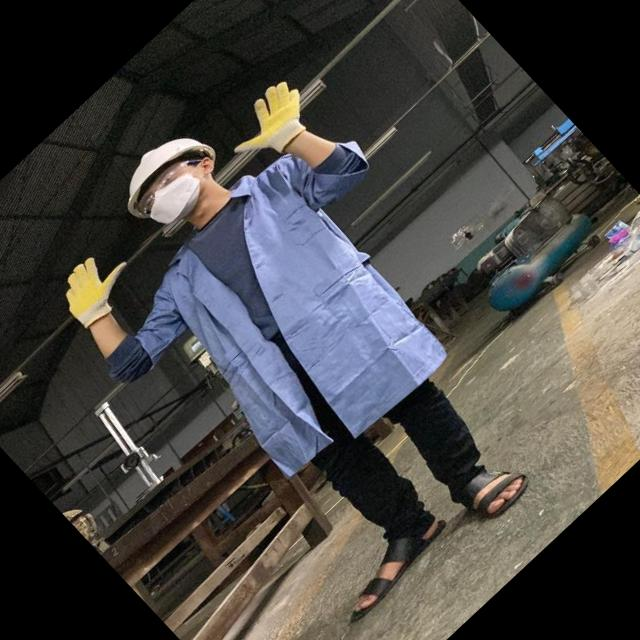hard_hat: (108, 120, 208, 218)
